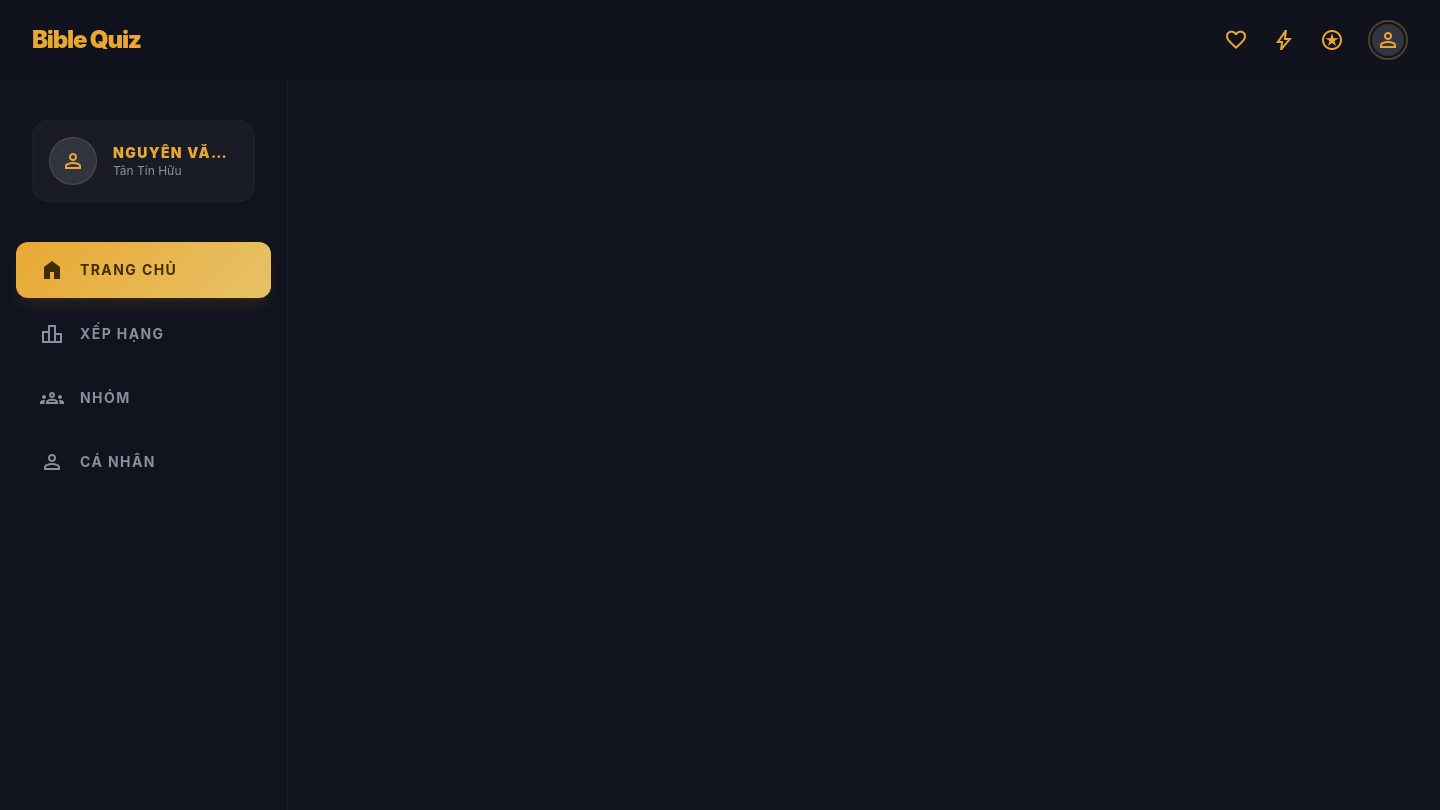
it: AppLayout — Logout › shows loading state during logout
Click the button: click(1388, 40) [1368,20,1408,60]
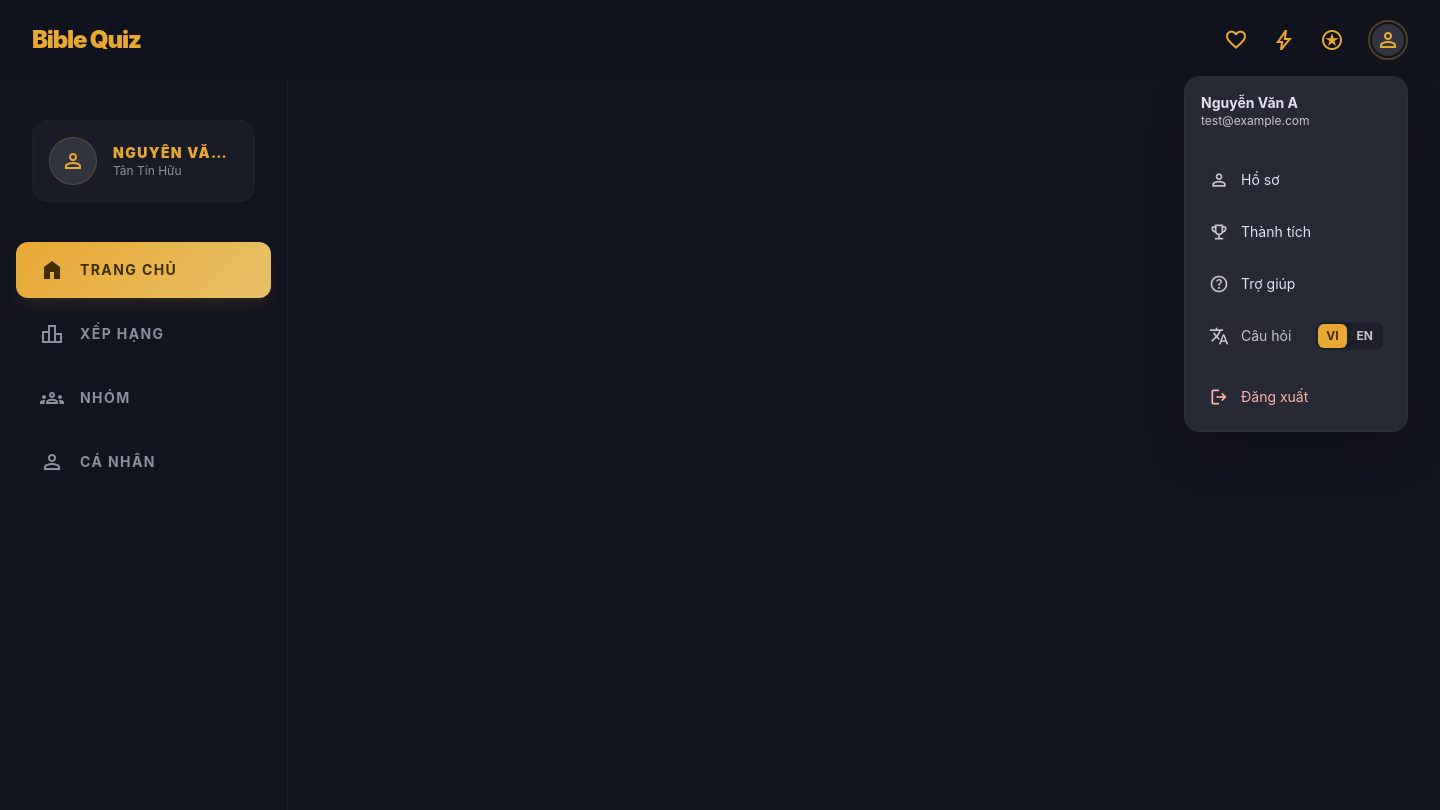
Click the button "Đăng xuất": click(1296, 397) [1193,371,1399,423]
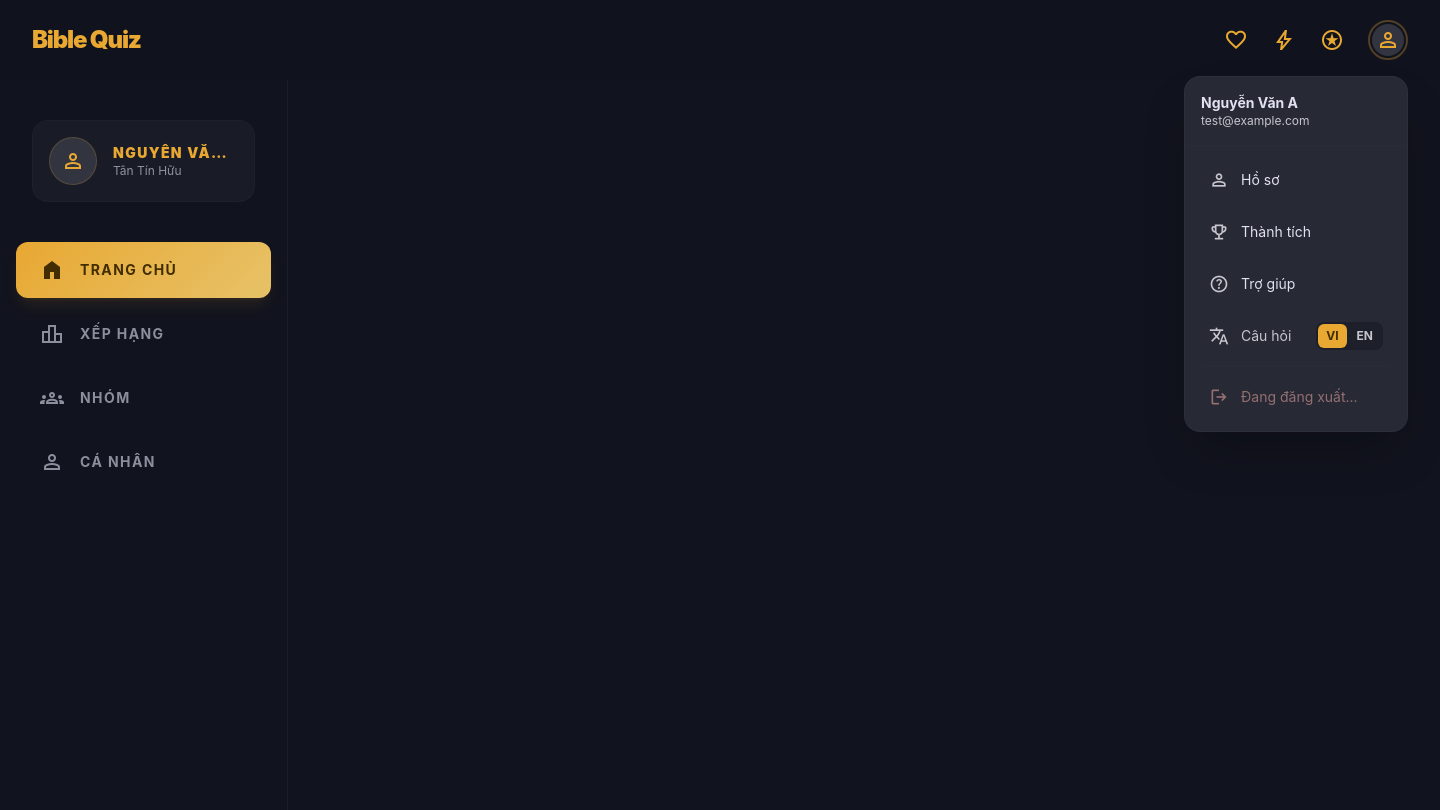
Check: the button "Đang đăng xuất..." is shown, box [1193,371,1399,423]
